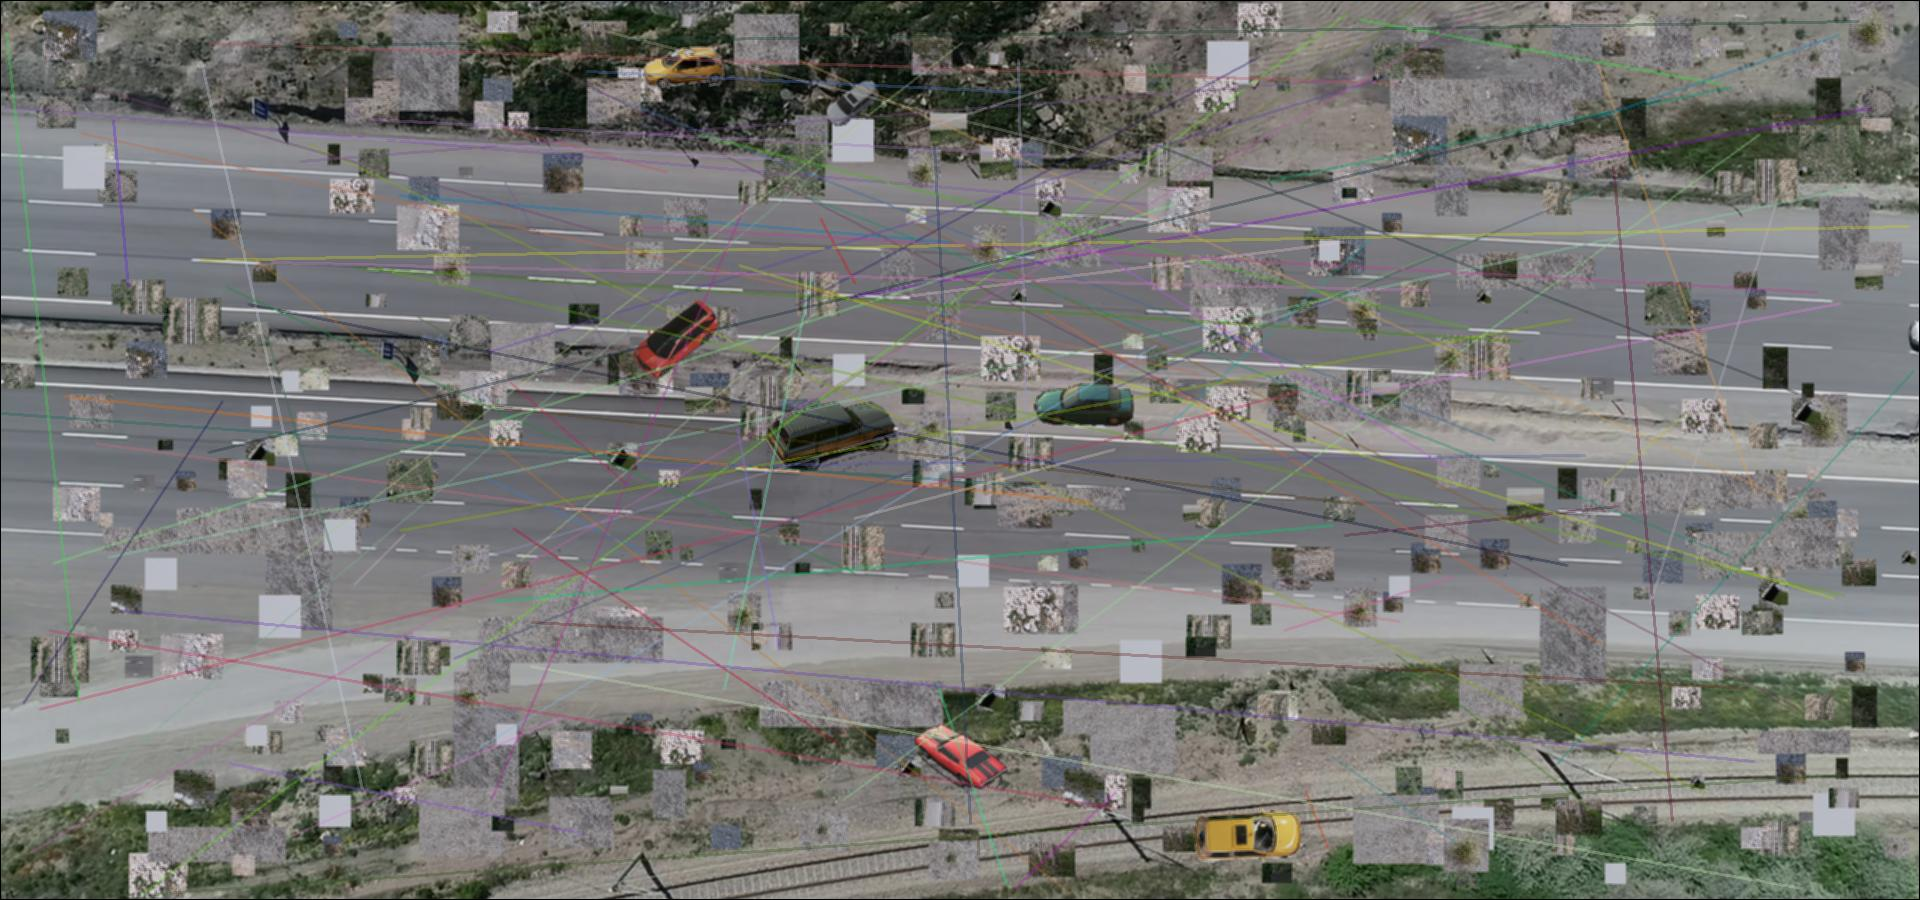arac: (767, 402, 898, 471), (622, 301, 719, 380), (1194, 803, 1303, 867), (912, 721, 1009, 789), (1033, 383, 1138, 426), (644, 47, 727, 88), (824, 81, 879, 126)
